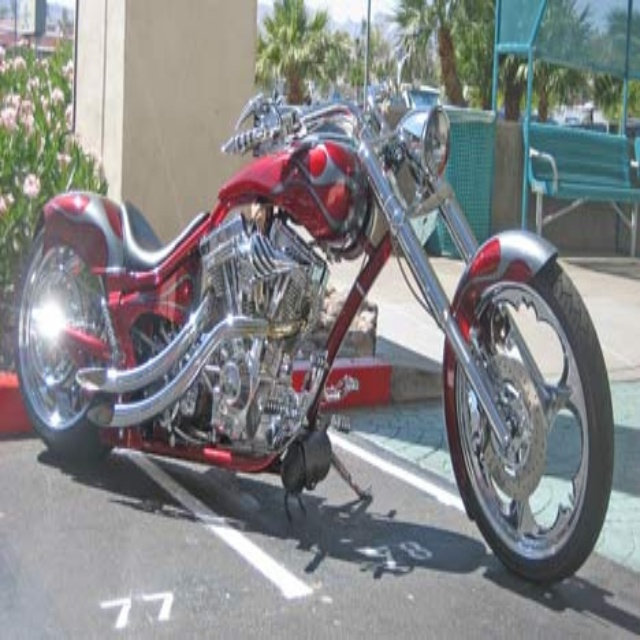Motorcycle: (12, 83, 614, 586)
